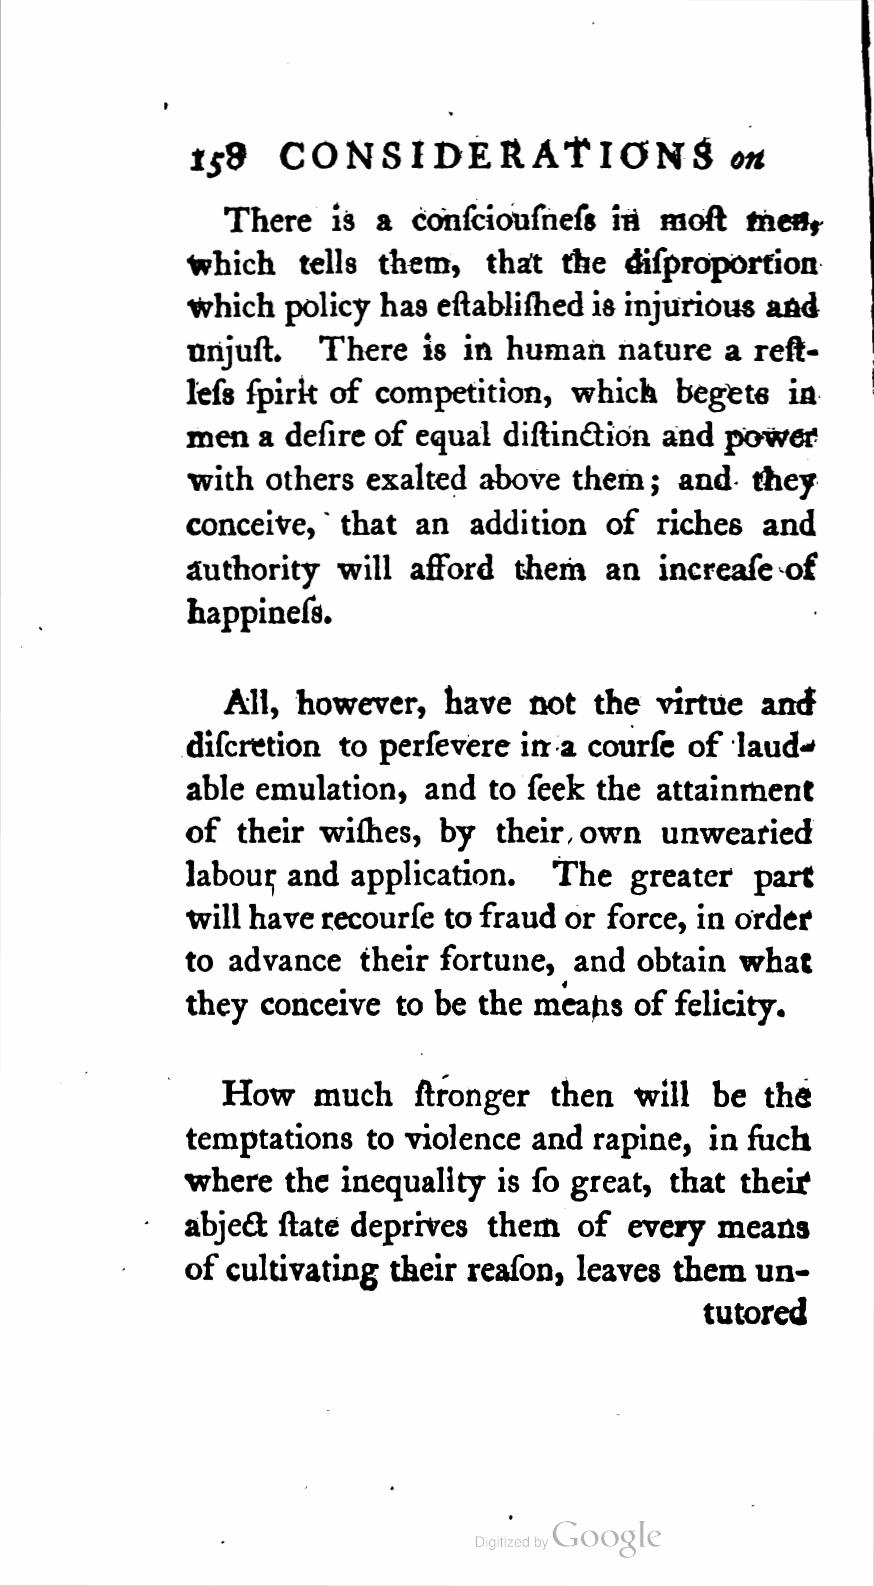catchword: (700, 1294, 812, 1330)
full_p: (184, 194, 824, 632), (182, 682, 820, 1026)
header: (278, 136, 772, 178)
page_num: (186, 134, 248, 180)
top_p: (180, 1074, 822, 1292)
